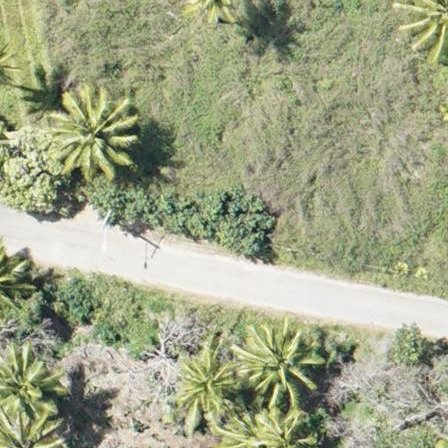palm_tree: (229, 314, 325, 417), (47, 82, 139, 181), (167, 346, 240, 423), (1, 346, 58, 423), (402, 1, 448, 53), (213, 447, 226, 448)
